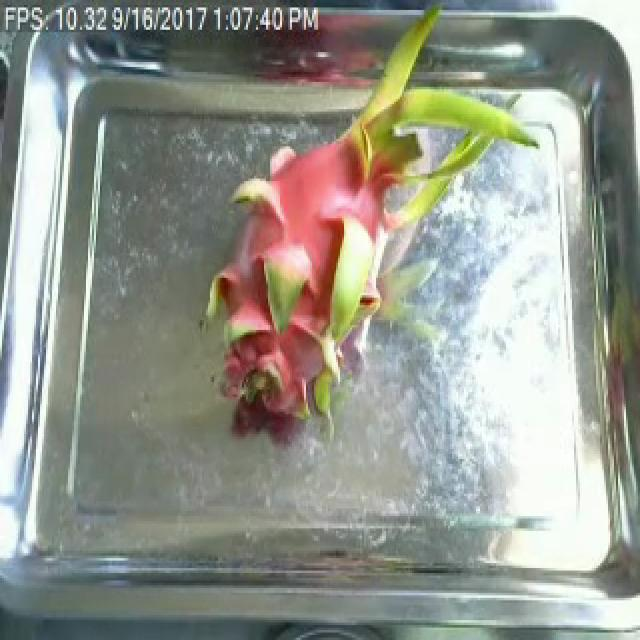fruit: (182, 49, 498, 464)
